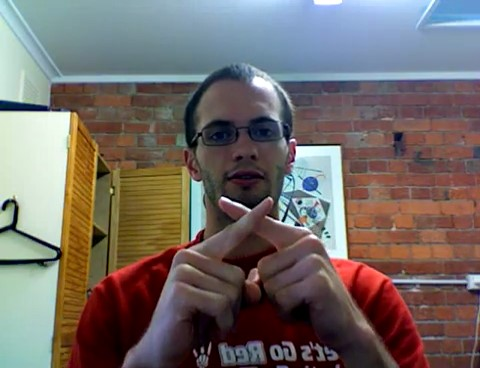X: (154, 186, 358, 344)
